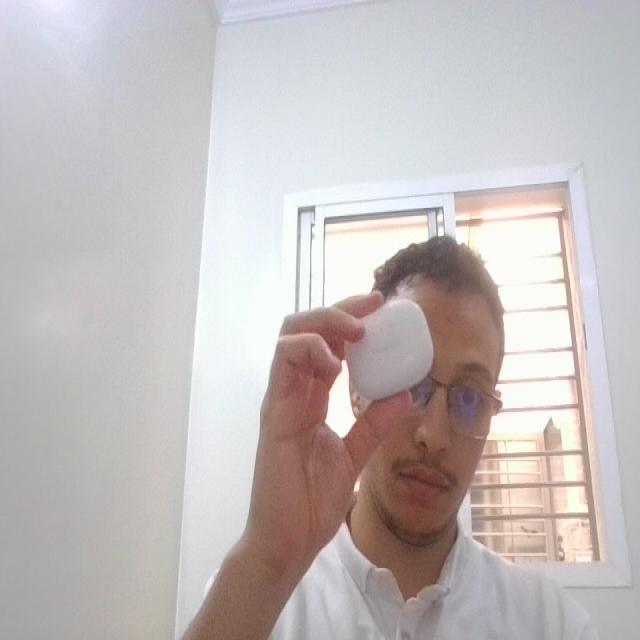airpods: (339, 298, 441, 400)
